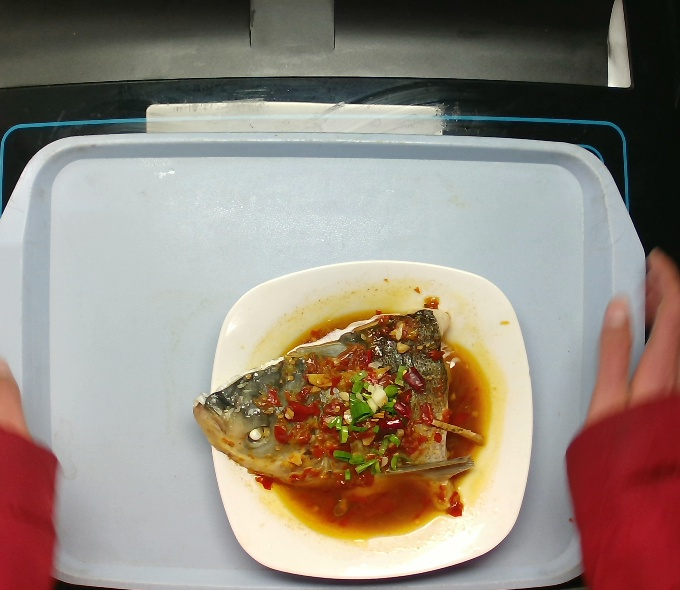wcq-DuoJiaoYuTou: (194, 294, 490, 543)
